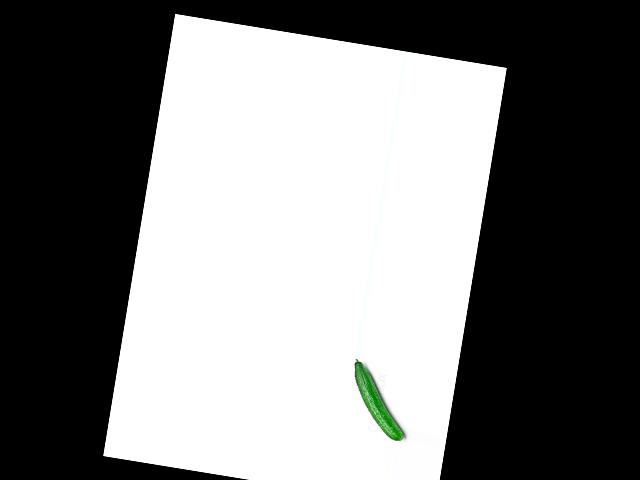cucumber: (343, 357, 415, 441)
